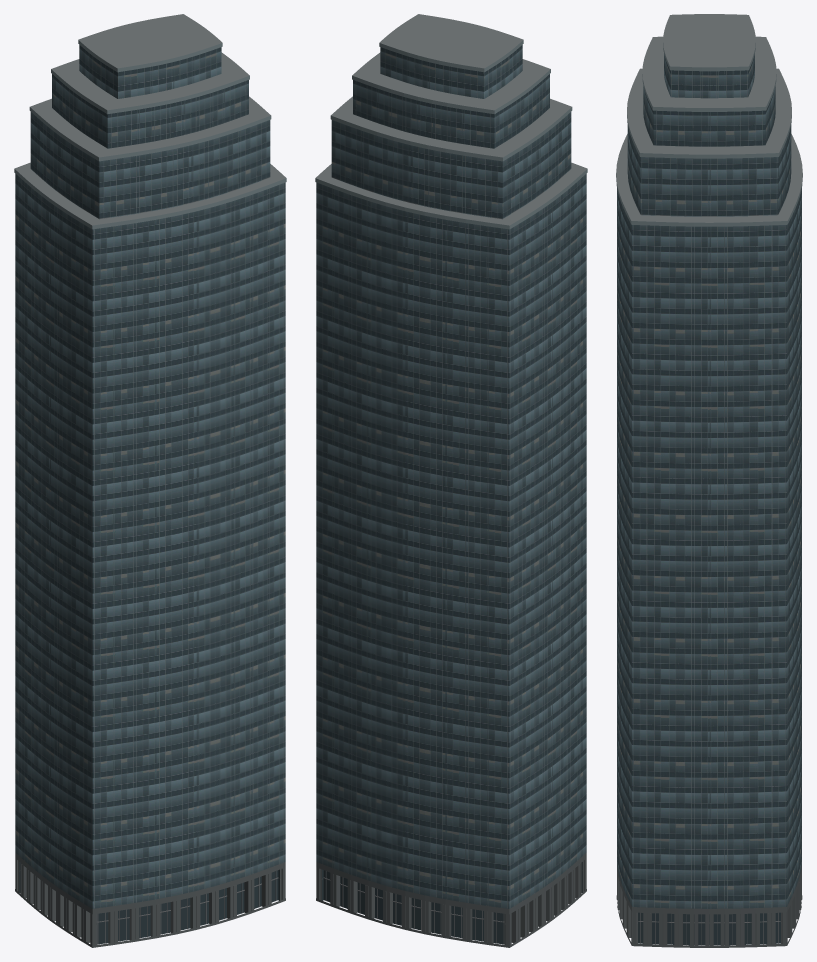
Rendered from municipal_tower.glb.
The picture shows the model from 3 angles, left to right: view 1: azimuth 30°, elevation 25°; view 2: azimuth 150°, elevation 25°; view 3: azimuth 270°, elevation 25°; orthographic projection.
Visible parts, largest first — view 1: municipal_tower; view 2: municipal_tower; view 3: municipal_tower.
Part boxes in pixels (x1,y1,x2,y2): municipal_tower: [14, 14, 286, 947]; municipal_tower: [315, 14, 587, 947]; municipal_tower: [616, 14, 802, 947].
Bounding box in the file's own units: 54.49 × 220 × 43.4.
2 materials, 2 textured.
